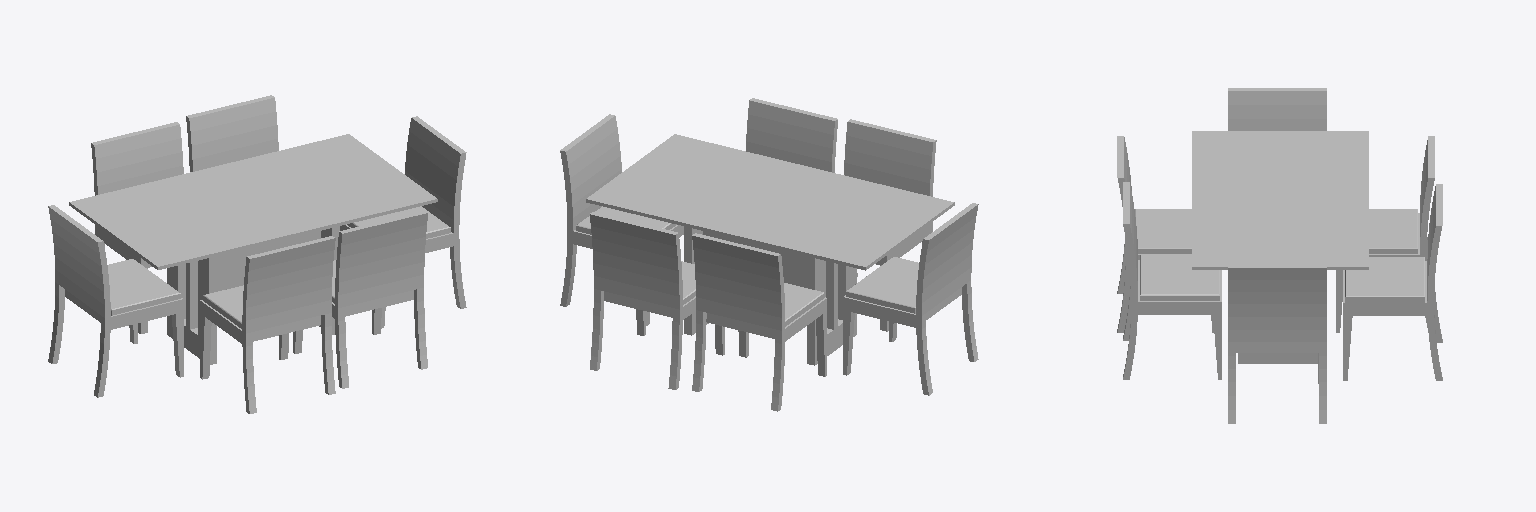
File: dining.obj
The picture shows the model from 3 angles: view 1: azimuth 30°, elevation 25°; view 2: azimuth 150°, elevation 25°; view 3: azimuth 270°, elevation 25°; orthographic projection.
Visible parts, largest first — view 1: Group_001, cadeira__chair_002, cadeira__chair_005, cadeira__chair_001, cadeira__chair_003, cadeira__chair_004, cadeira__chair_006, Group_002; view 2: Group_001, cadeira__chair_004, cadeira__chair_005, cadeira__chair_006, cadeira__chair_003, cadeira__chair_002, cadeira__chair_001, Group_002; view 3: Group_001, cadeira__chair_003, cadeira__chair_006, cadeira__chair_001, cadeira__chair_005, cadeira__chair_004, cadeira__chair_002, Group_002.
Part boxes in pixels (x1,y1,x2,y2): Group_001: (69, 134, 437, 269); cadeira__chair_002: (200, 236, 335, 413); cadeira__chair_005: (48, 205, 183, 397); cadeira__chair_001: (293, 211, 427, 388); cadeira__chair_003: (340, 116, 466, 328); cadeira__chair_004: (91, 122, 183, 333); cadeira__chair_006: (186, 95, 278, 171); Group_002: (167, 226, 339, 364); Group_001: (586, 134, 954, 270); cadeira__chair_004: (692, 233, 826, 411); cadeira__chair_005: (843, 203, 978, 395); cadeira__chair_006: (590, 212, 724, 389); cadeira__chair_003: (560, 114, 683, 325); cadeira__chair_002: (844, 119, 936, 331); cadeira__chair_001: (746, 98, 837, 172); Group_002: (684, 226, 856, 365); Group_001: (1192, 131, 1368, 269); cadeira__chair_003: (1228, 265, 1326, 423); cadeira__chair_006: (1343, 184, 1442, 380); cadeira__chair_001: (1123, 182, 1221, 379); cadeira__chair_005: (1228, 88, 1326, 130); cadeira__chair_004: (1336, 136, 1434, 332); cadeira__chair_002: (1117, 136, 1213, 332); Group_002: (1238, 353, 1317, 363).
Bounding box in the file's own units: 89.8 × 36.14 × 68.54.